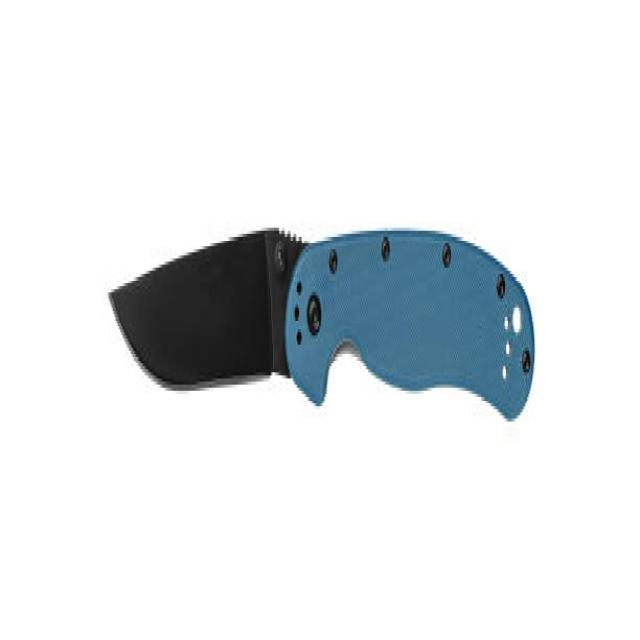knife: (106, 204, 540, 458)
